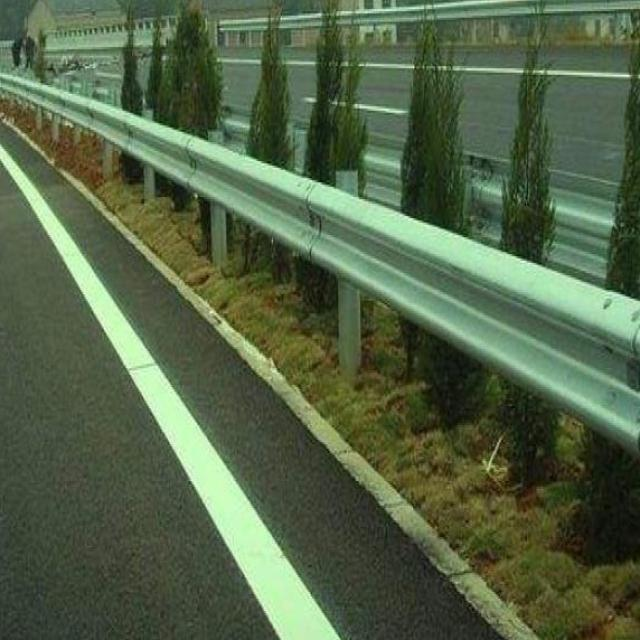Guard rail: (0, 74, 640, 454), (341, 0, 640, 26), (221, 17, 264, 34), (281, 12, 321, 29)
